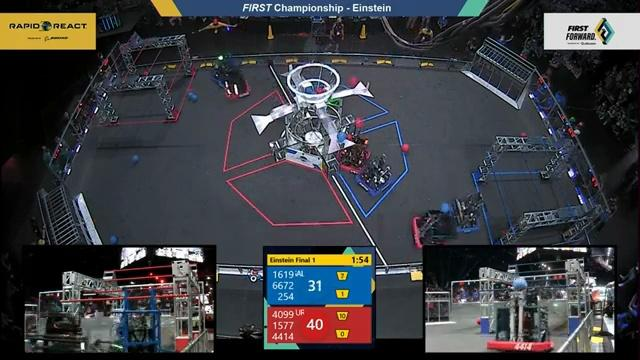robot: (411, 210, 458, 250), (332, 130, 373, 174), (443, 191, 484, 235), (356, 153, 392, 198), (206, 48, 240, 84), (221, 71, 256, 101)
